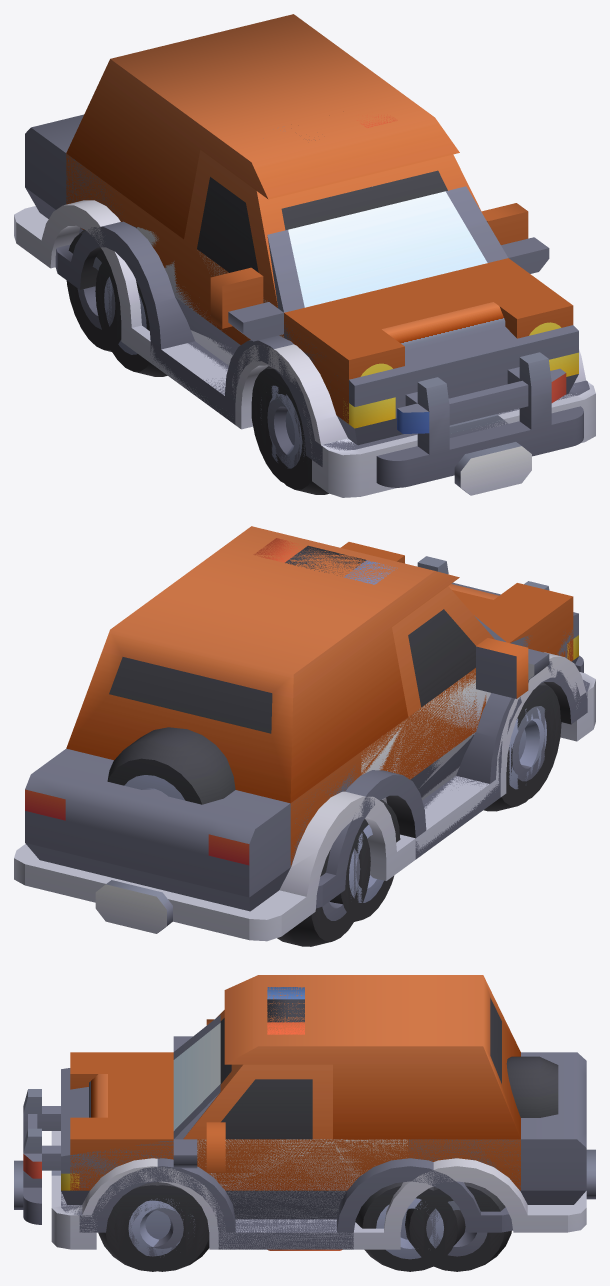
File: coches.glb
3 renders of one model, top to bottom at view 1: azimuth 30°, elevation 25°; view 2: azimuth 150°, elevation 25°; view 3: azimuth 270°, elevation 25°, orthographic. The views are drawn at different scales.
Parts seen in each view (by area): view 1: body (×2), grill, wheel-front-right (×2), wheel-back-right (×2); view 2: body (×2), wheel-back, wheel-front-right (×2), wheel-back-right (×2), grill; view 3: body (×2), wheel-front-left (×2), wheel-back-left (×2), grill, wheel-back.
Part boxes in pixels (<box>): body (×2): <box>14,14,595,497</box>; grill: <box>376,352,583,495</box>; wheel-front-right (×2): <box>251,366,328,494</box>; wheel-back-right (×2): <box>66,229,167,376</box>; body (×2): <box>14,526,595,941</box>; wheel-back: <box>107,727,235,804</box>; wheel-front-right (×2): <box>483,682,561,811</box>; wheel-back-right (×2): <box>277,799,400,946</box>; grill: <box>417,556,583,672</box>; body (×2): <box>51,975,595,1249</box>; wheel-front-left (×2): <box>98,1182,209,1271</box>; wheel-back-left (×2): <box>355,1182,511,1271</box>; grill: <box>14,1089,60,1224</box>; wheel-back: <box>506,1056,558,1117</box>.
Size of the model in its own units: 1.5 by 1.3 by 3.1.
1 material, 1 textured.
